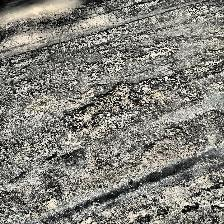pothole: (64, 79, 140, 131), (140, 45, 178, 59)
